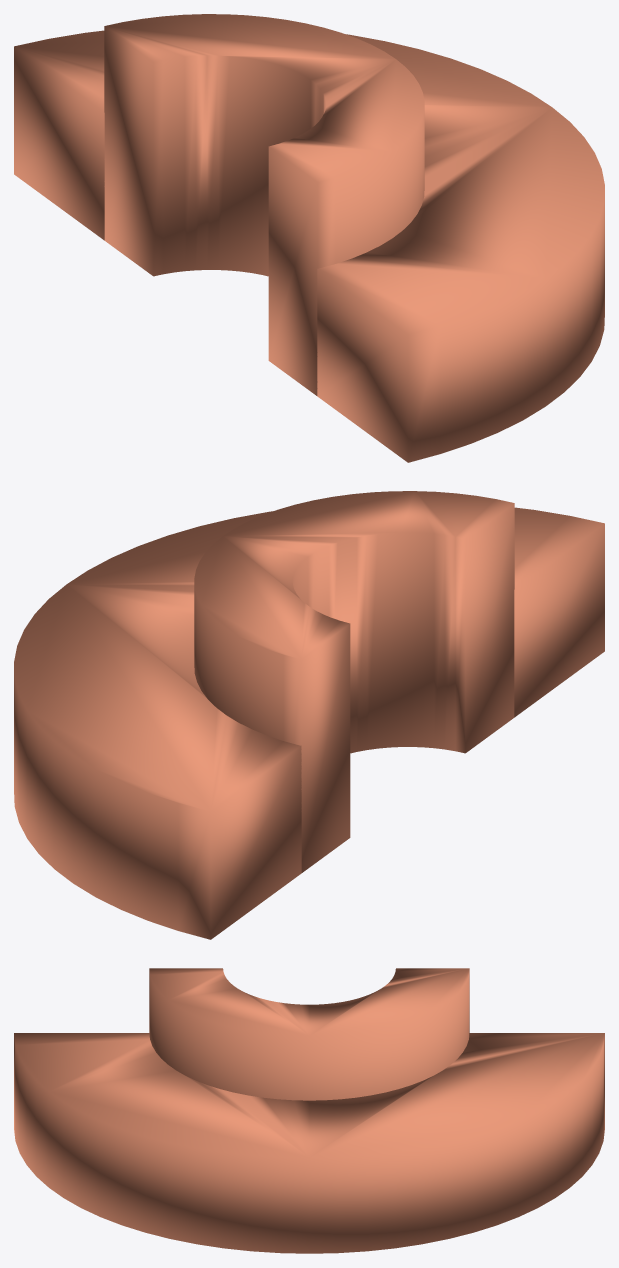
The model's file is sofa_4.glb.
3 views of the same model, one above another, from view 1: azimuth 30°, elevation 25°; view 2: azimuth 150°, elevation 25°; view 3: azimuth 270°, elevation 25° (orthographic). The views are drawn at different scales.
Parts seen in each view (by area): view 1: red_sofa_001.001; view 2: red_sofa_001.001; view 3: red_sofa_001.001.
Part boxes in pixels (box(x1,y1,x2,y2)): red_sofa_001.001: box(14, 14, 604, 462); red_sofa_001.001: box(14, 491, 604, 939); red_sofa_001.001: box(14, 968, 604, 1253).
Bounding box in the file's own units: 0.9037 × 0.5422 × 1.81.
